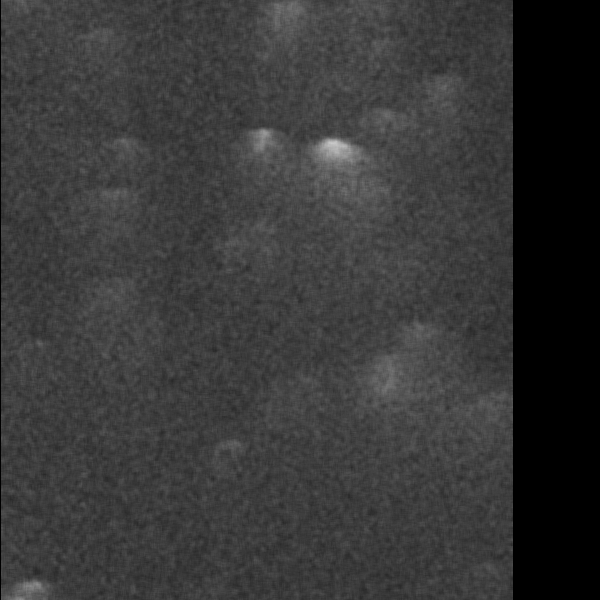spark: (15, 126, 81, 174), (452, 343, 509, 393), (193, 472, 220, 497), (181, 106, 205, 128)
